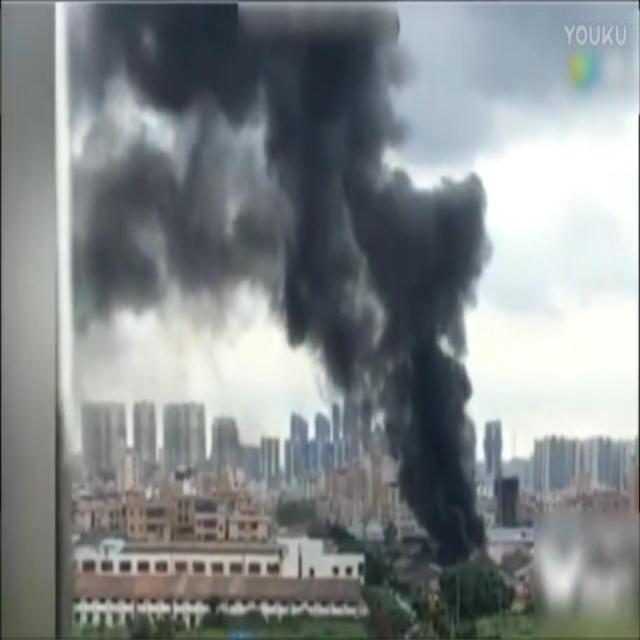Smoke: (66, 1, 493, 570)
